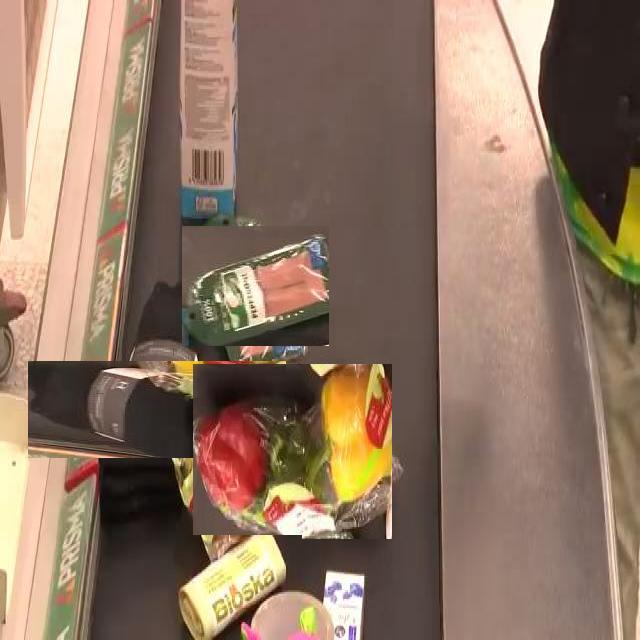beverage: (181, 0, 237, 215)
food-box: (188, 218, 322, 353)
utility-box: (68, 320, 246, 498), (180, 535, 302, 640), (317, 576, 367, 640)
vegetable: (192, 363, 392, 540)
